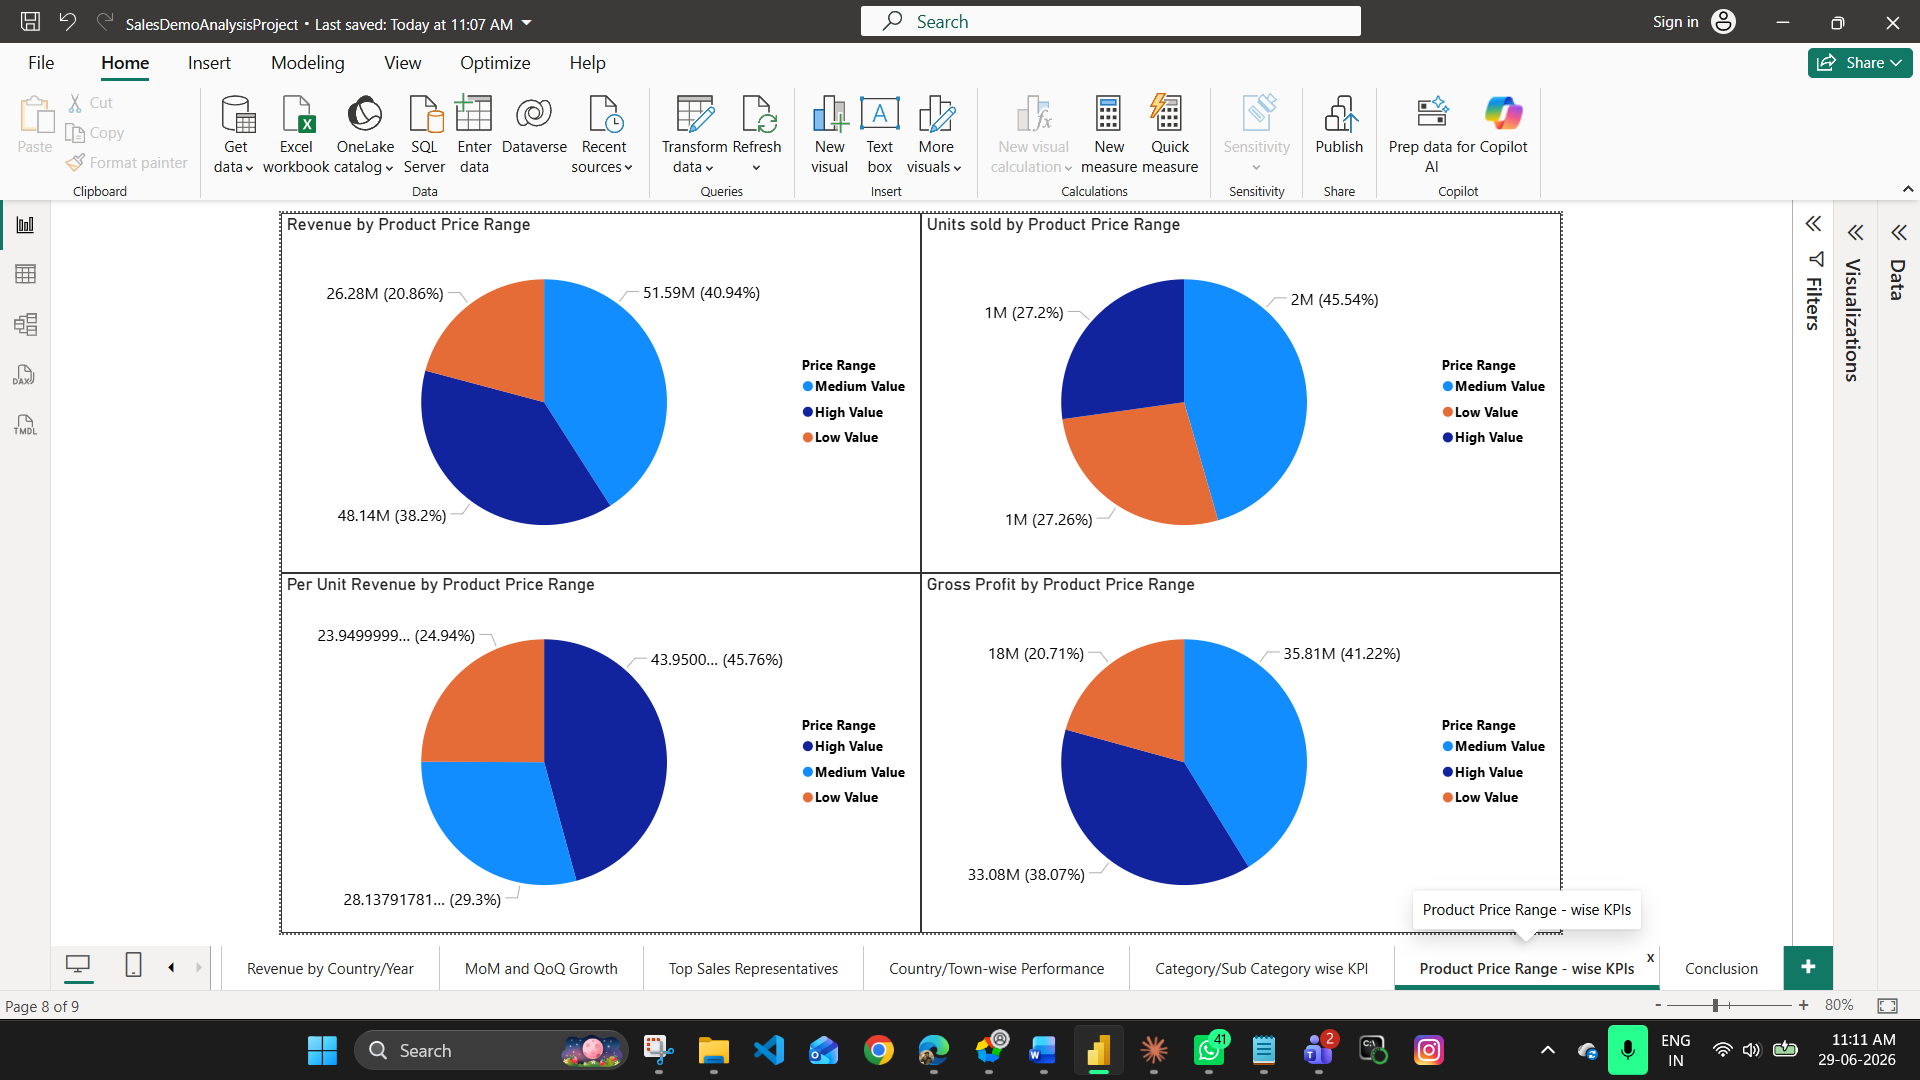

Layout of this report page (visuals, bound fields, positions):
{"tool":"powerbi","page":{"name":"Product Price Range - wise KPIs","canvas":[1280,720],"ordinal":7},"visuals":[{"type":"pieChart","title":"Revenue by Product Price Range","fields":{"Y":["Sum(FactSales.Total Revenue)"],"Category":["DimProducts.Price Range"]},"box":[0,0,640,360],"z":0},{"type":"pieChart","title":"Units sold by Product Price Range","fields":{"Y":["Sum(FactSales.Units)"],"Category":["DimProducts.Price Range"]},"box":[640,0,640,360],"z":1000},{"type":"pieChart","title":"Per Unit Revenue by Product Price Range","fields":{"Y":["FactSales.Revenue per Unit"],"Category":["DimProducts.Price Range"]},"box":[0,360,640,360],"z":2000},{"type":"pieChart","title":"Gross Profit by Product Price Range","fields":{"Y":["FactSales.Total Gross Profit"],"Category":["DimProducts.Price Range"]},"box":[640,360,640,360],"z":3000}]}

Visuals, with their boxes on the page's 1280x720 design canvas (x1, y1, x2, y2). These are canvas units, not pixel positions in the 1920x1080 screenshot, which may show the page scaled, cropped or inside an application window:
"Revenue by Product Price Range" pieChart: <region>0, 0, 640, 360</region>
"Units sold by Product Price Range" pieChart: <region>640, 0, 1280, 360</region>
"Per Unit Revenue by Product Price Range" pieChart: <region>0, 360, 640, 720</region>
"Gross Profit by Product Price Range" pieChart: <region>640, 360, 1280, 720</region>
